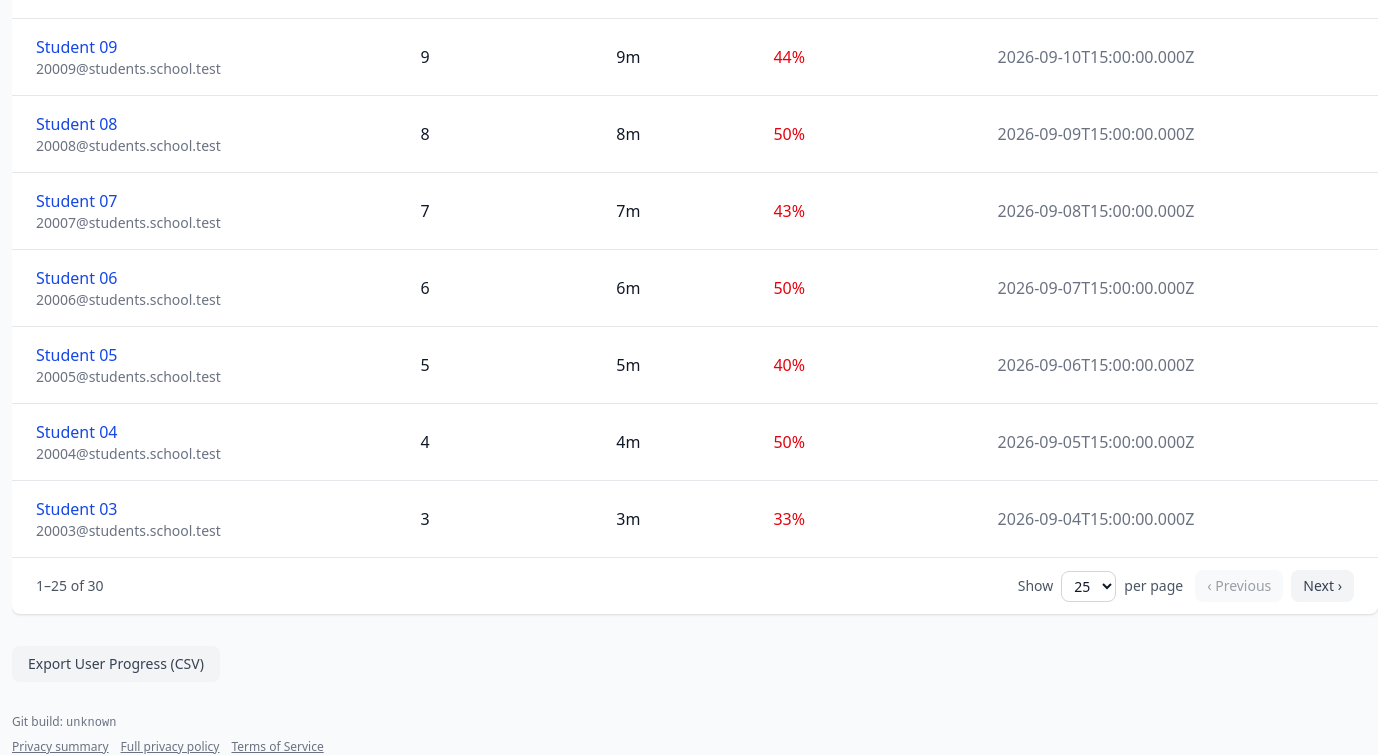
Test: AdminDashboard User Activity: search, sort, pages and a way to each user › shows 25 at a time, newest activity first, never-active last
(page scrolled)
expect the text "1–25 of 30" is shown: met, box x1=36 y1=576 x2=104 y2=596
Click the button "Next ›" at [1323, 586], box x1=1291 y1=570 x2=1354 y2=602
(page scrolled)
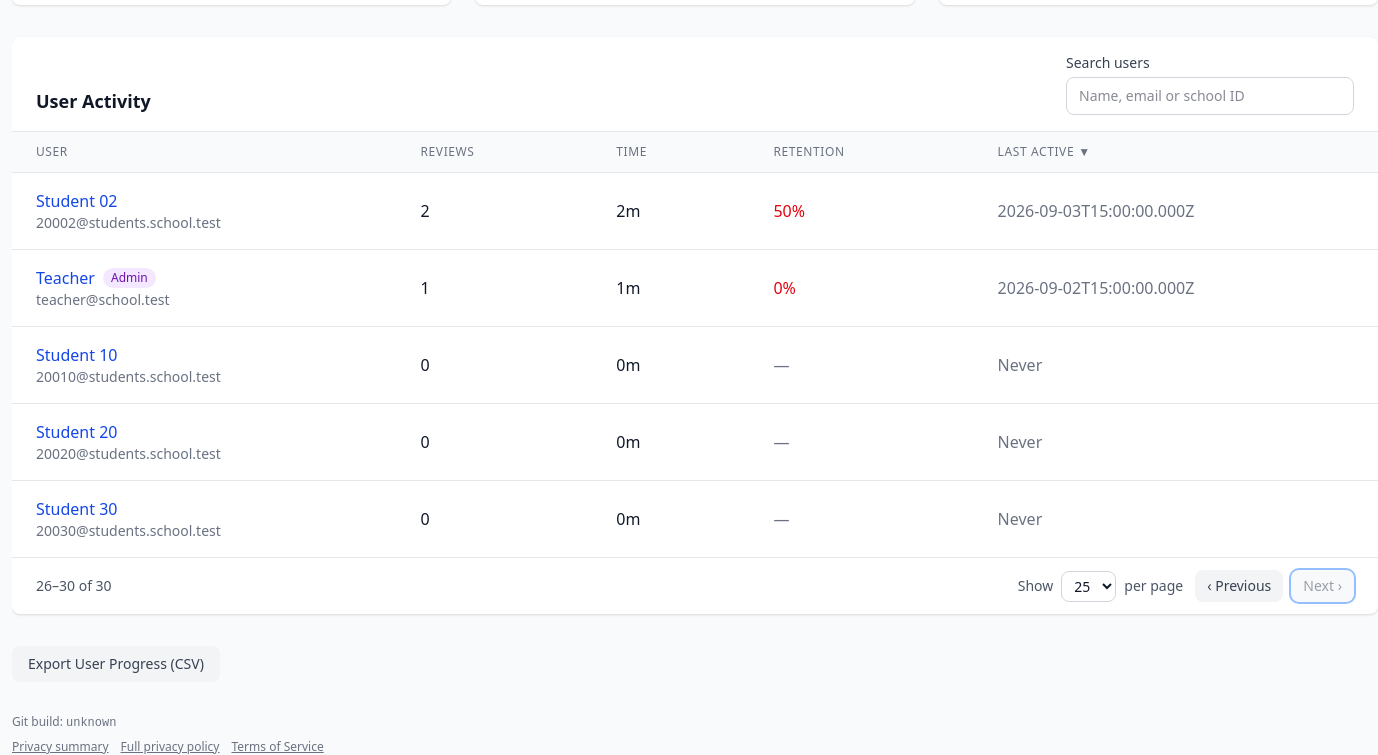
expect the text "26–30 of 30" is shown: met, box x1=36 y1=576 x2=112 y2=596
